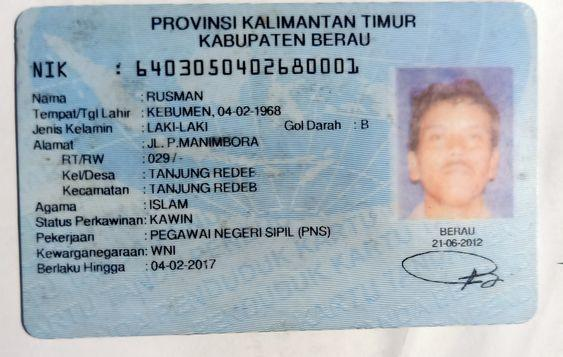ID-card: (14, 2, 536, 332)
